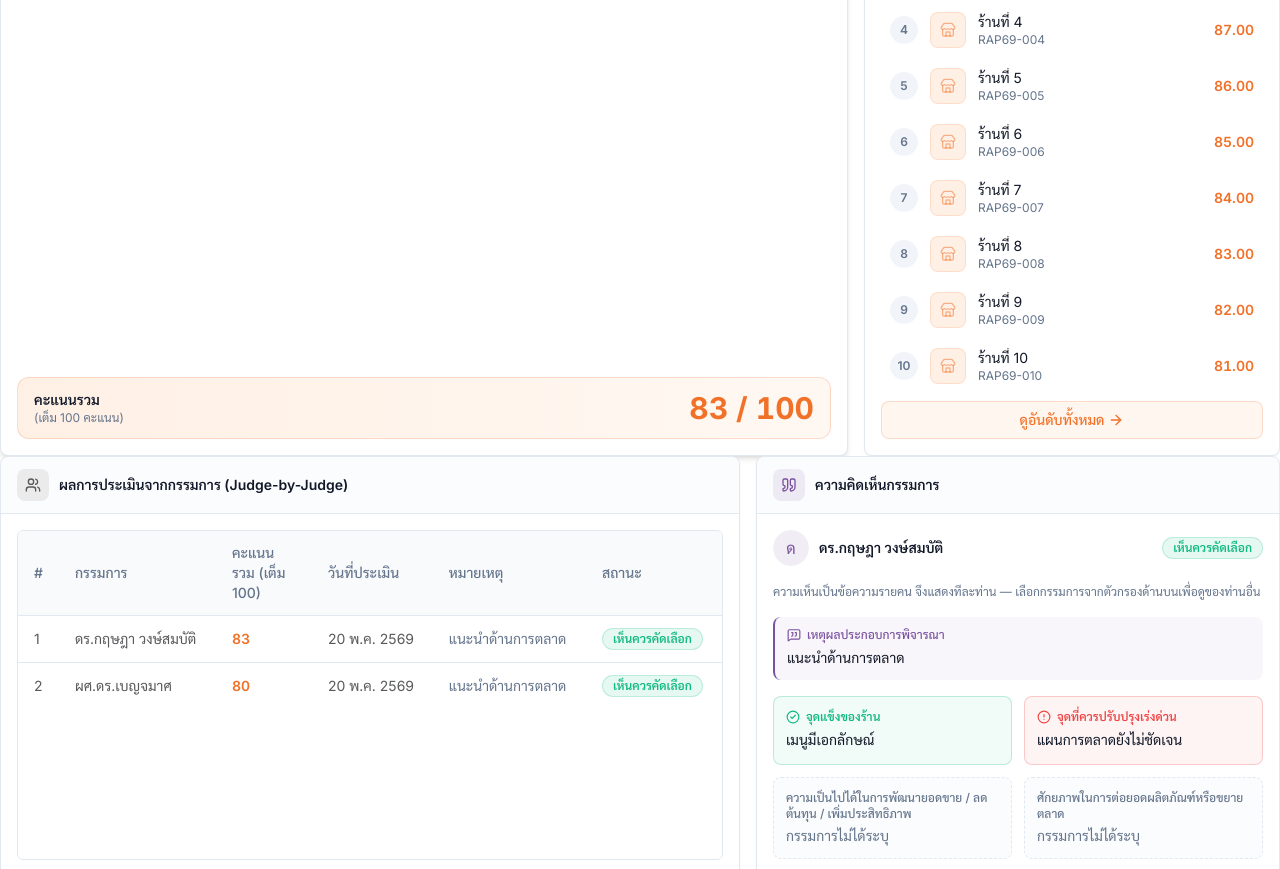
Test: PitchingDashboard › opens the whole ranking in a dialog, paged, without another request
(page scrolled)
Click the button "ดูอันดับทั้งหมด" at (1072, 420), box x1=881 y1=401 x2=1263 y2=439
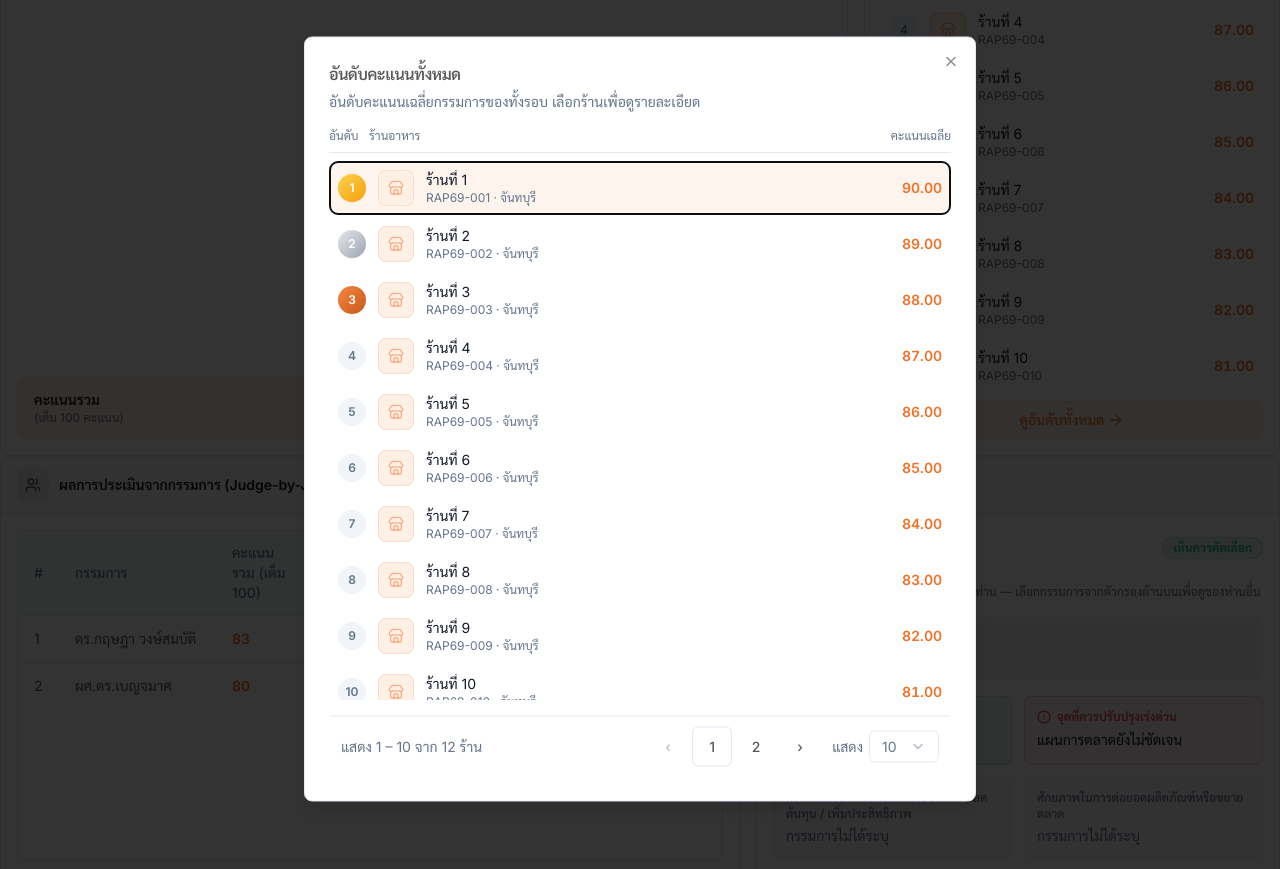
Check: the text "ร้านที่ 11" is not shown
Check: the text "ร้านที่ 10" is shown, box x1=426 y1=674 x2=476 y2=692
Click the link "2" at (756, 746), box x1=752 y1=738 x2=760 y2=754
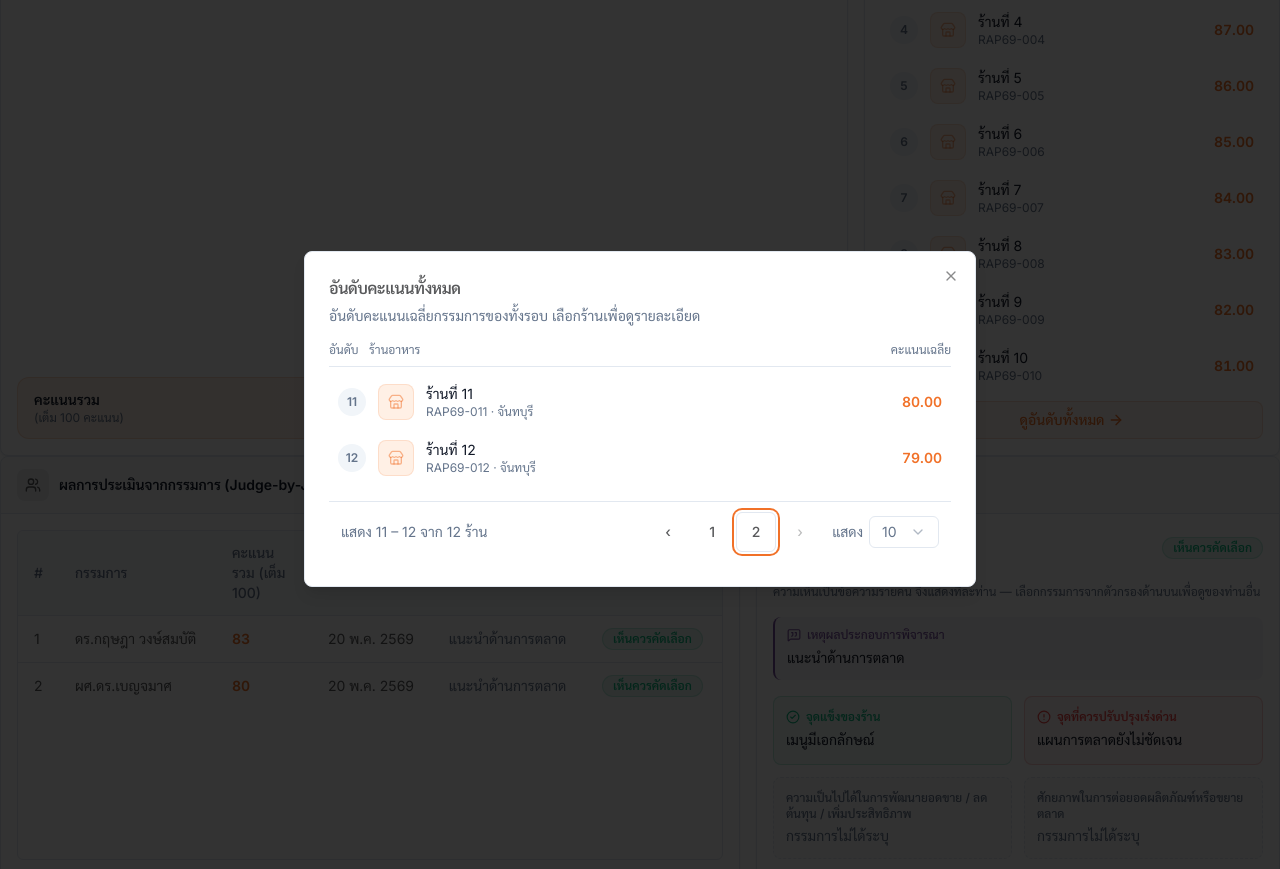
Check: the text "ร้านที่ 11" is shown, box x1=426 y1=385 x2=473 y2=402
